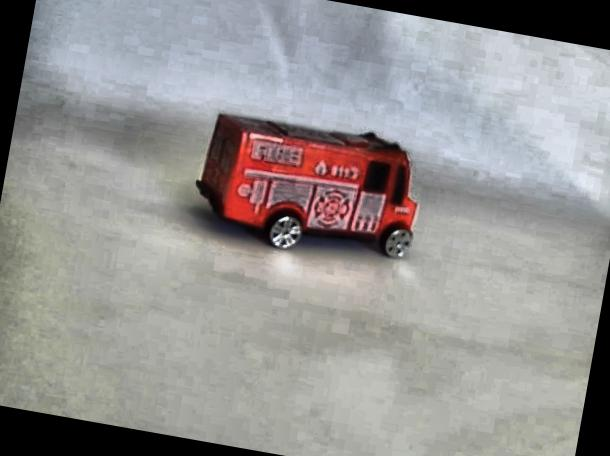fire_truck: (192, 114, 425, 267)
